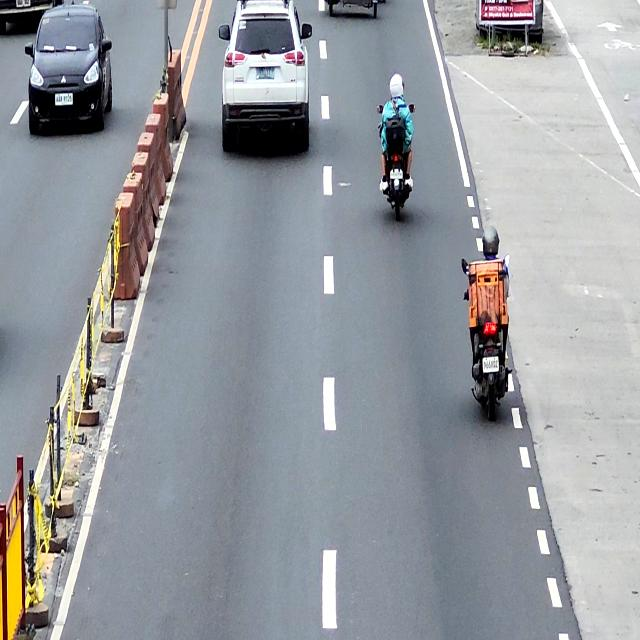Car: (218, 0, 312, 153), (25, 5, 112, 132)
License-Plate: (482, 358, 500, 373), (256, 66, 274, 80), (55, 94, 73, 105), (390, 168, 403, 180)
Motorcycle: (461, 256, 510, 422), (378, 104, 415, 221)
